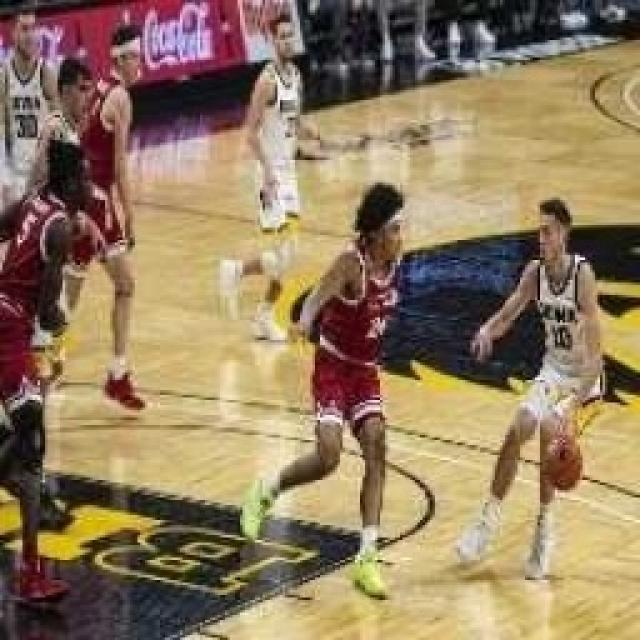rim: (540, 434, 584, 492)
